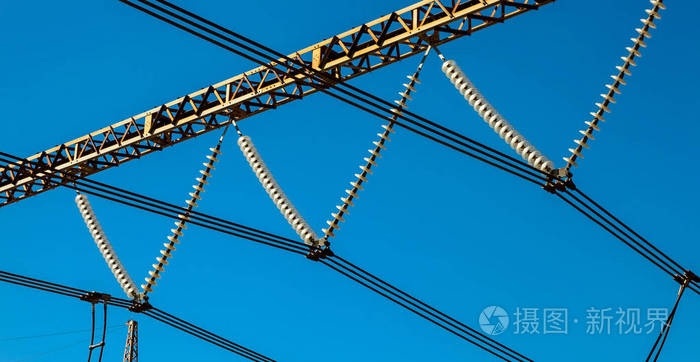insulator: (565, 2, 665, 166), (322, 77, 420, 238), (441, 61, 551, 173), (140, 148, 219, 297), (239, 133, 313, 242), (73, 193, 132, 293)
